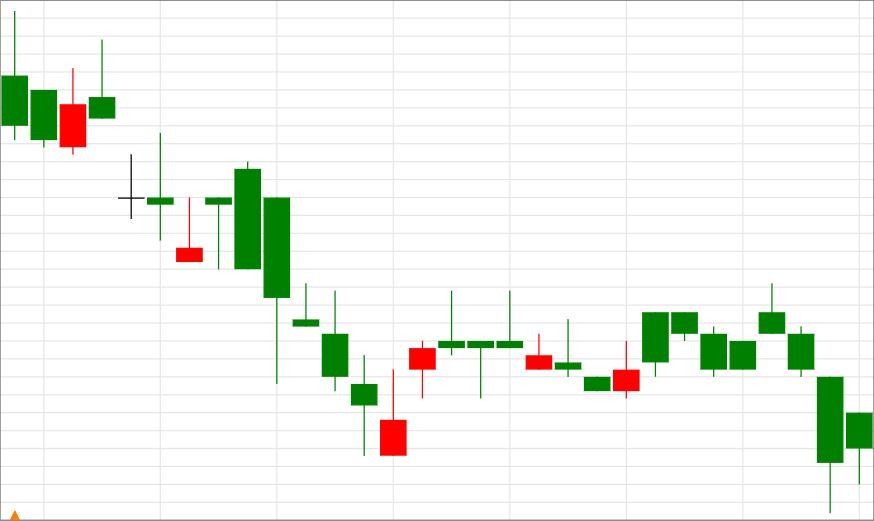inverse_hammer_rise: (235, 162, 408, 456)
